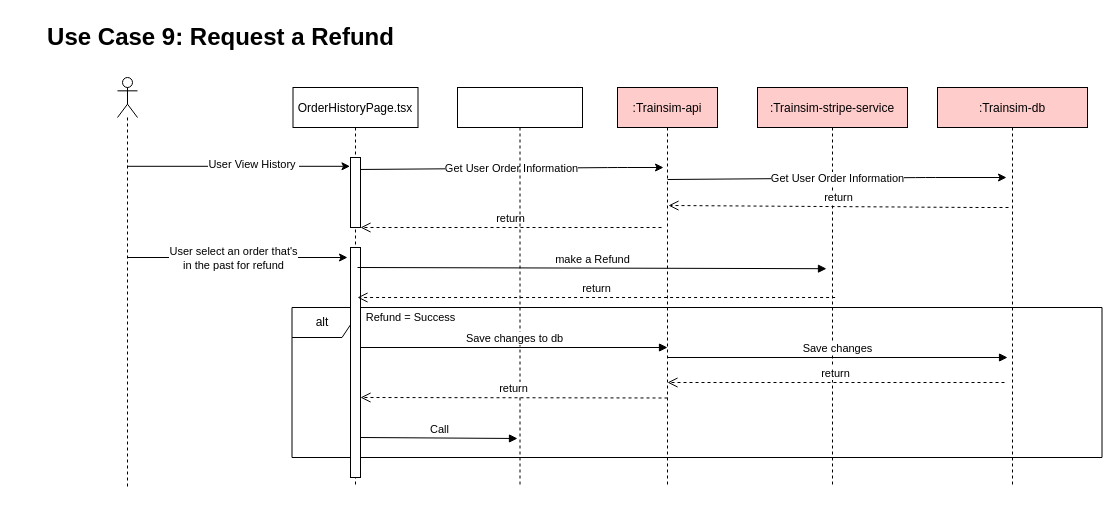
The diagram is 1119 pixels wide and 505 high, and some of its shapes have lost their labels. Each missing label, with the box of its shape:
ConfirmationPage.tsx: (456, 86, 582, 488)
User: (116, 76, 138, 488)
